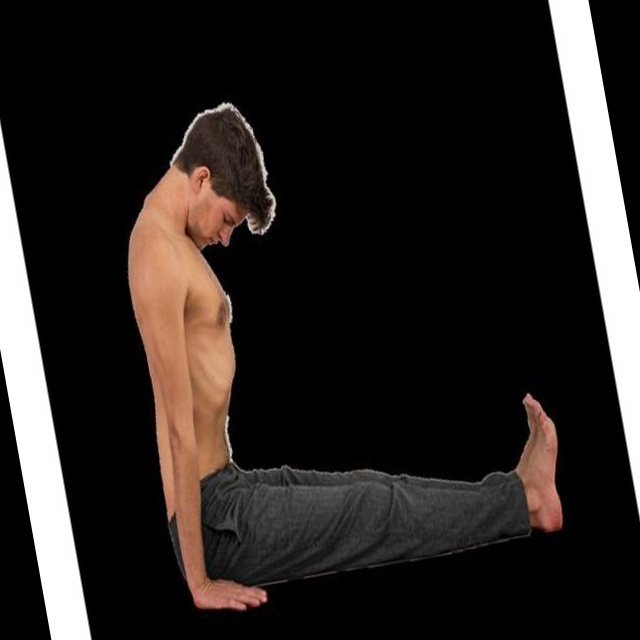Staff_Pose: (126, 99, 567, 611)
